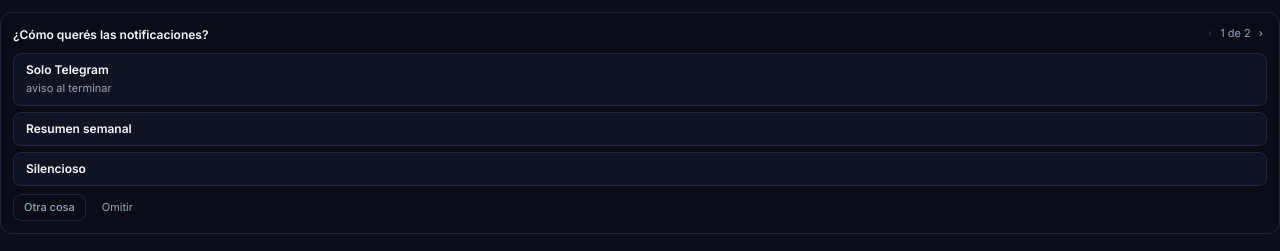
Test case: InteractiveQuestionCard › paginates option pages
Expected: the text "1 de 2" is shown, [1220, 25, 1251, 42]
Click the button named "Opciones siguientes" at (1261, 33), box [1255, 25, 1267, 42]
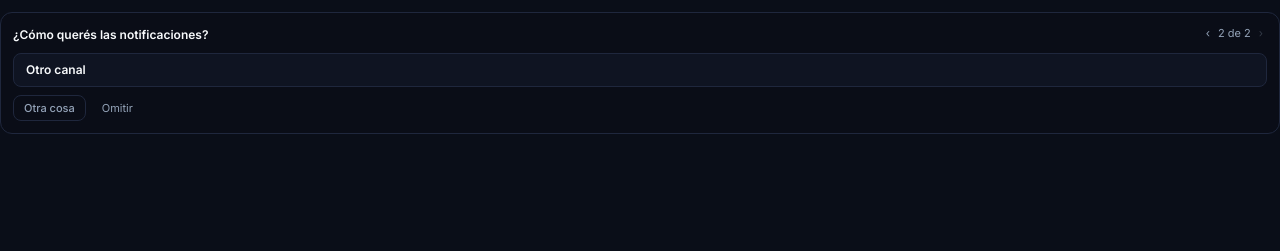
Expected: the text "2 de 2" is shown, [1218, 25, 1251, 42]
Expected: the text "Otro canal" is shown, [26, 62, 86, 76]
